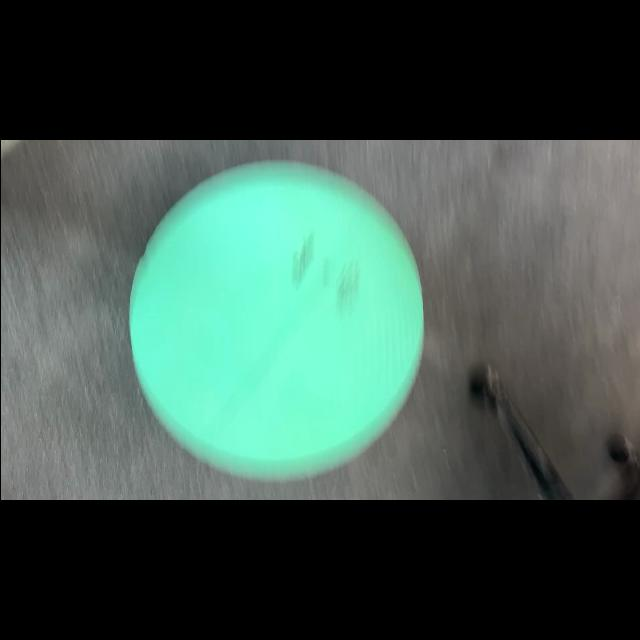ALGAE: (127, 158, 425, 482)
